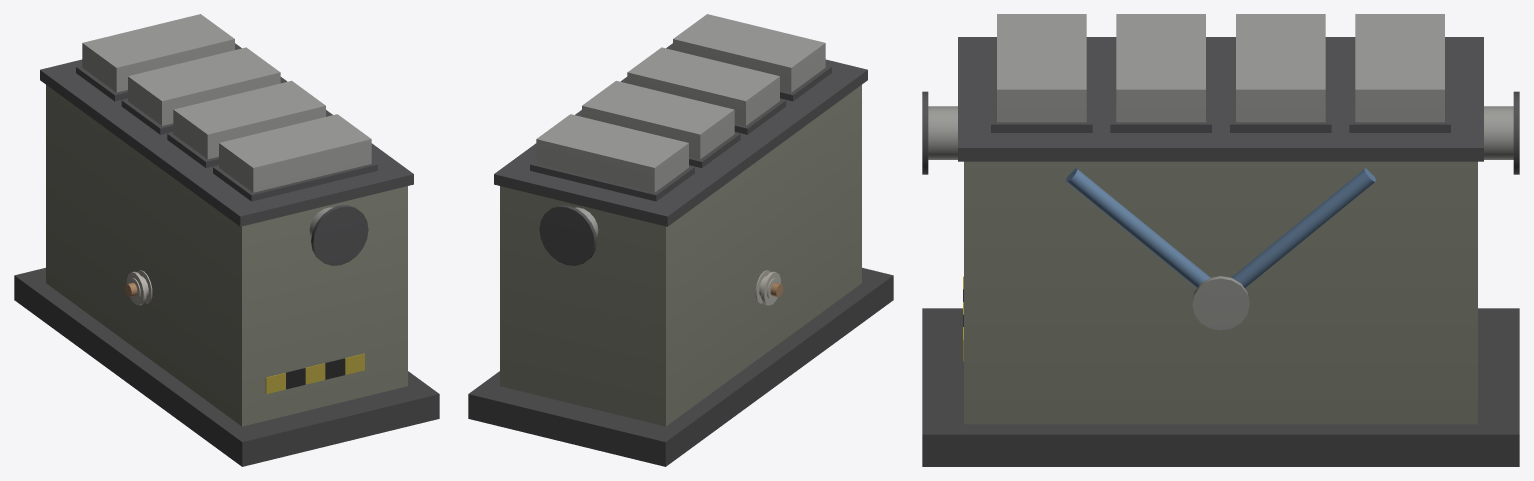
The model's file is lzAmp_steel.glb.
3 renders of one model, left to right at view 1: azimuth 30°, elevation 25°; view 2: azimuth 150°, elevation 25°; view 3: azimuth 270°, elevation 25°, orthographic. The views are drawn at different scales.
Visible parts, largest first — view 1: lzAmp_steel; view 2: lzAmp_steel; view 3: lzAmp_steel.
Part boxes in pixels (x1,y1,x2,y2): lzAmp_steel: (14,14,439,466); lzAmp_steel: (468,14,893,466); lzAmp_steel: (922,14,1519,466).
Bounding box in the file's own units: 1 × 1.3 × 2.
